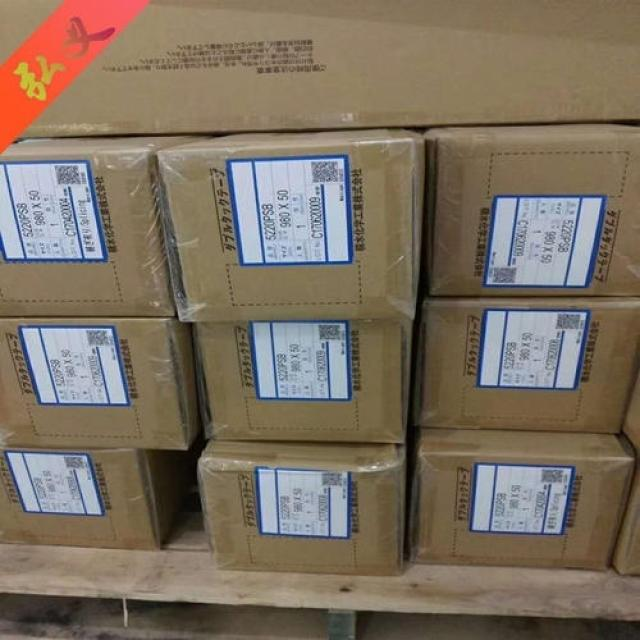box: (0, 3, 638, 140), (158, 128, 423, 319), (421, 119, 639, 298), (0, 133, 210, 316), (193, 298, 421, 444), (410, 427, 632, 571), (415, 297, 639, 436), (196, 443, 407, 576), (0, 314, 205, 450), (1, 447, 196, 551), (611, 437, 639, 575), (620, 361, 639, 456)
